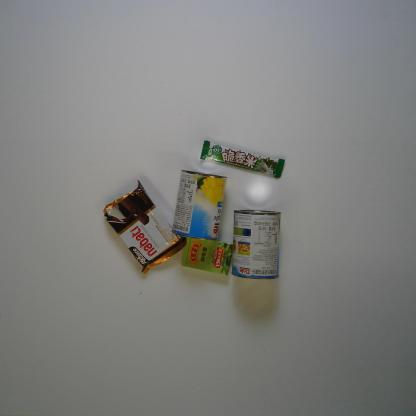Candy: (180, 234, 235, 276)
Canned Food: (169, 170, 228, 240), (231, 209, 282, 280)
Chocolate: (198, 140, 286, 180)
Dessert: (102, 179, 190, 277)
